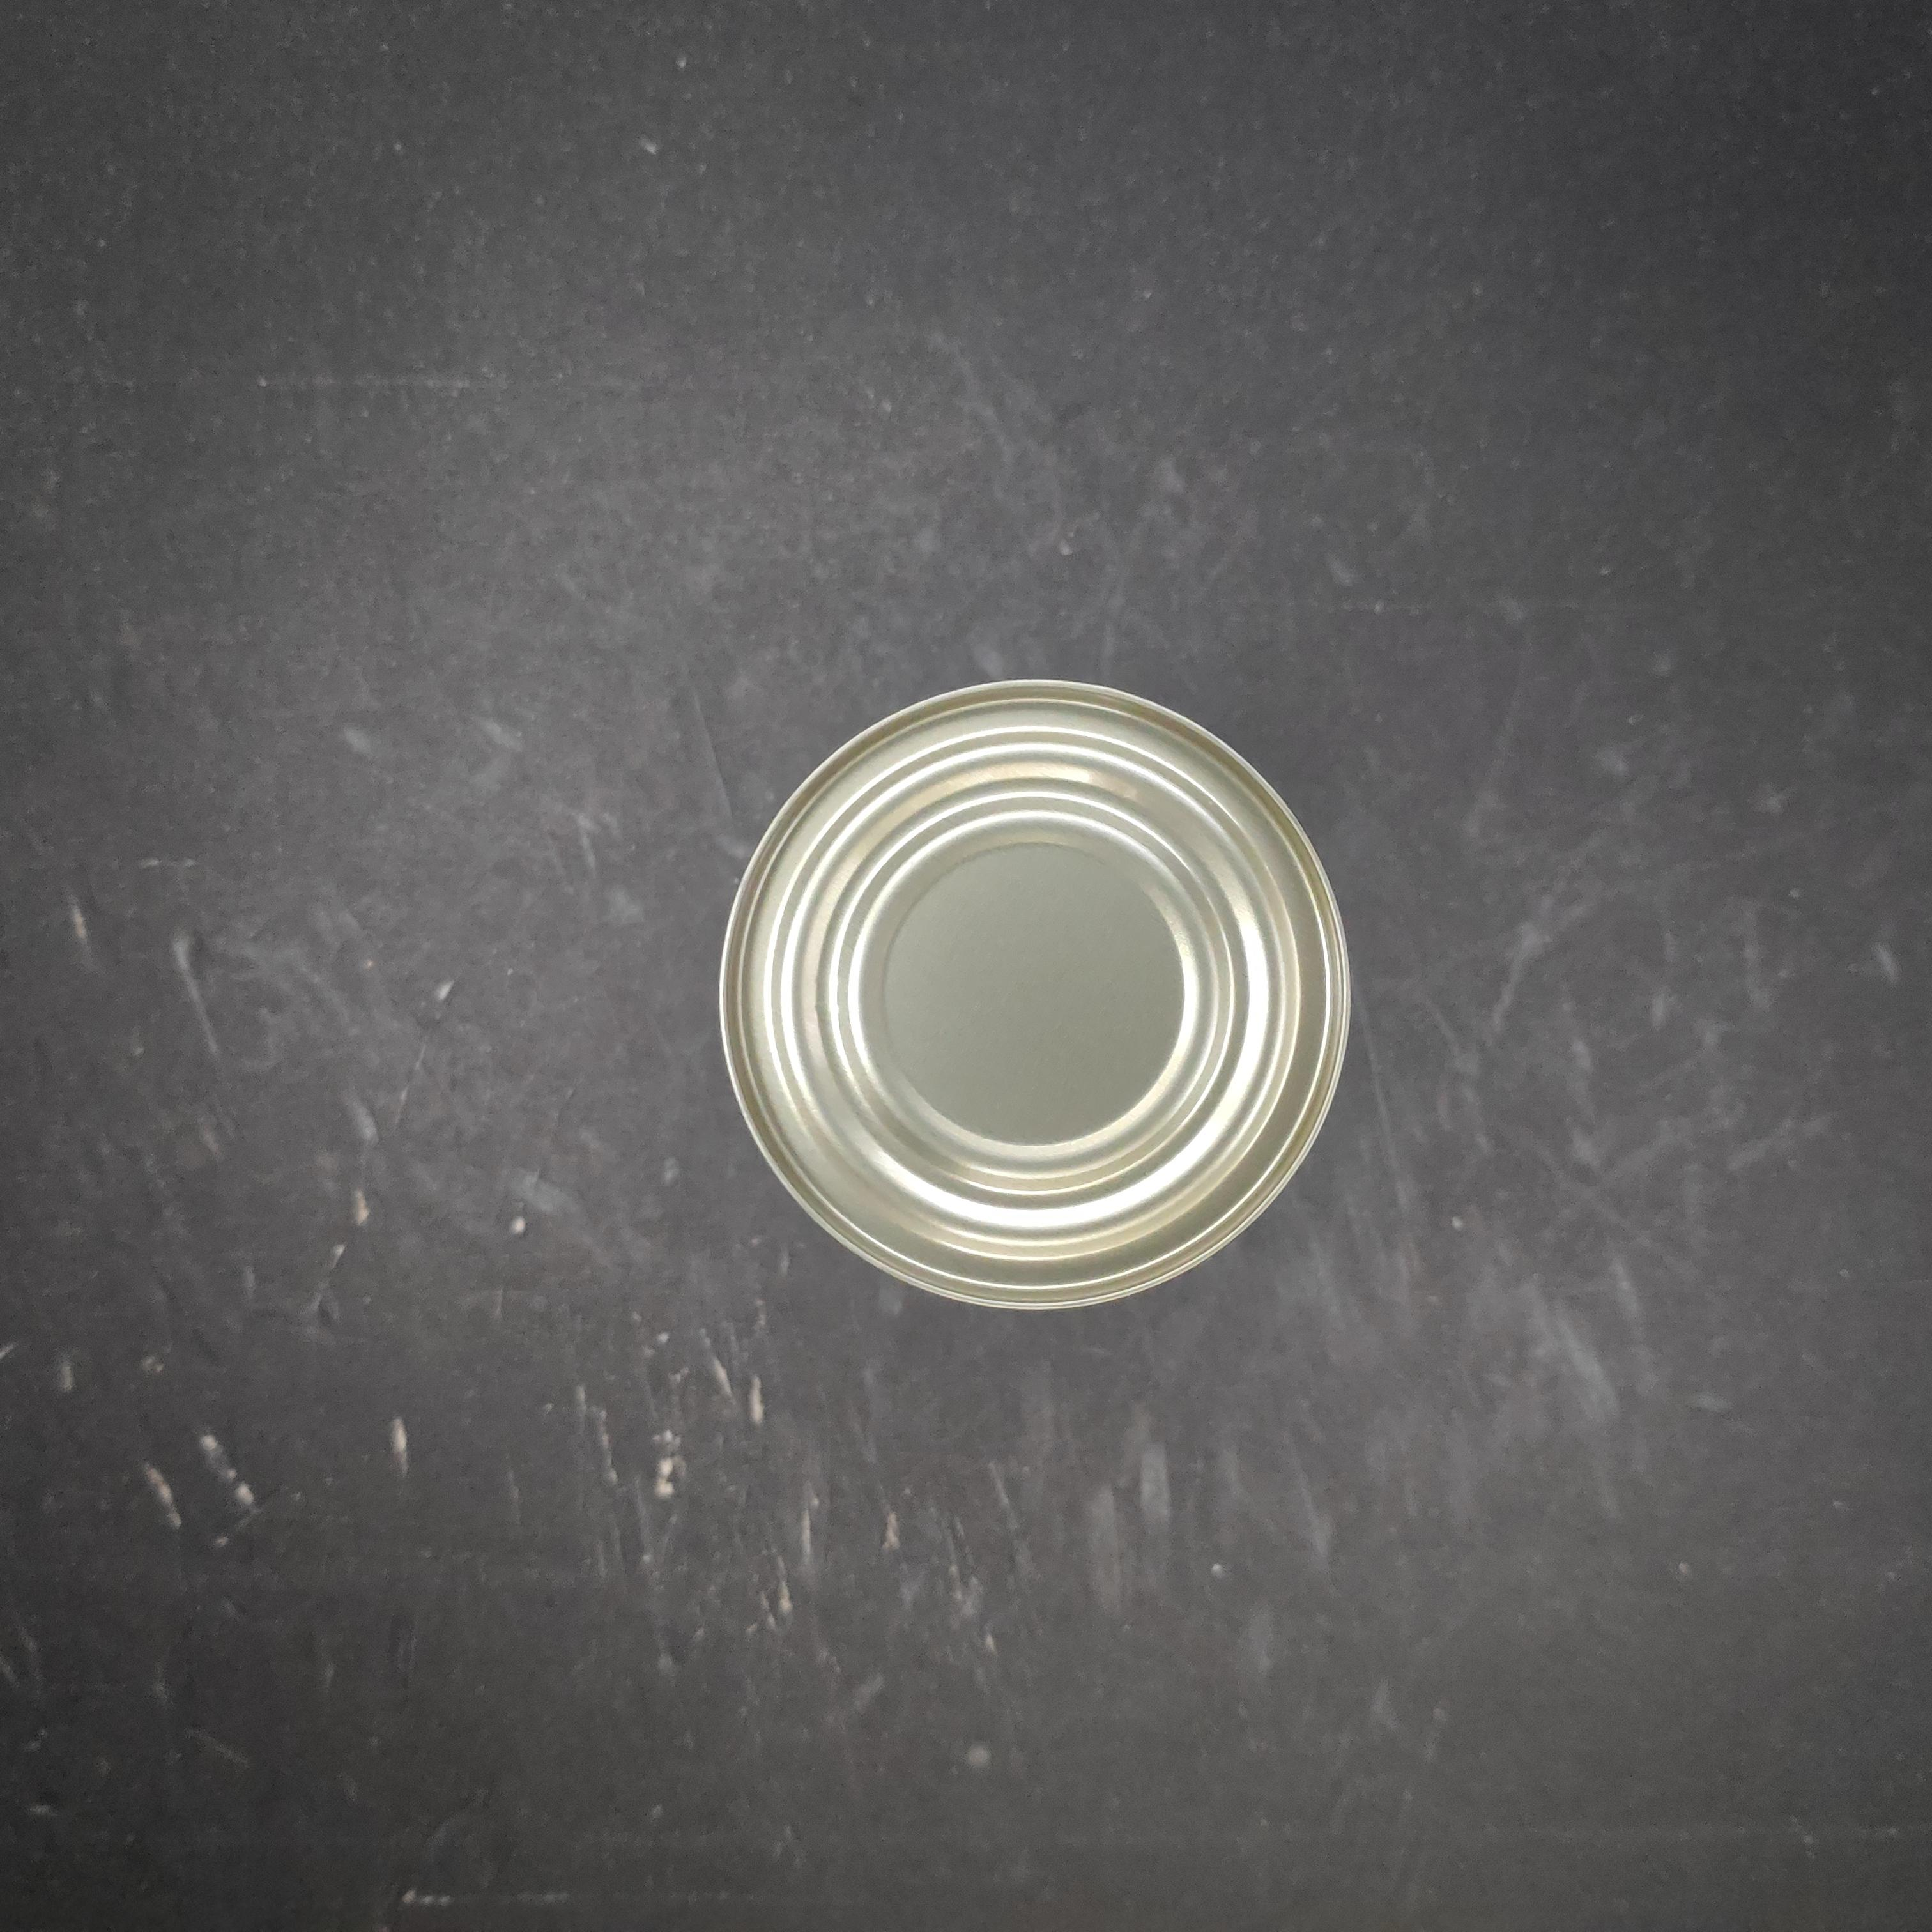No defect: (672, 570, 1323, 1231)
